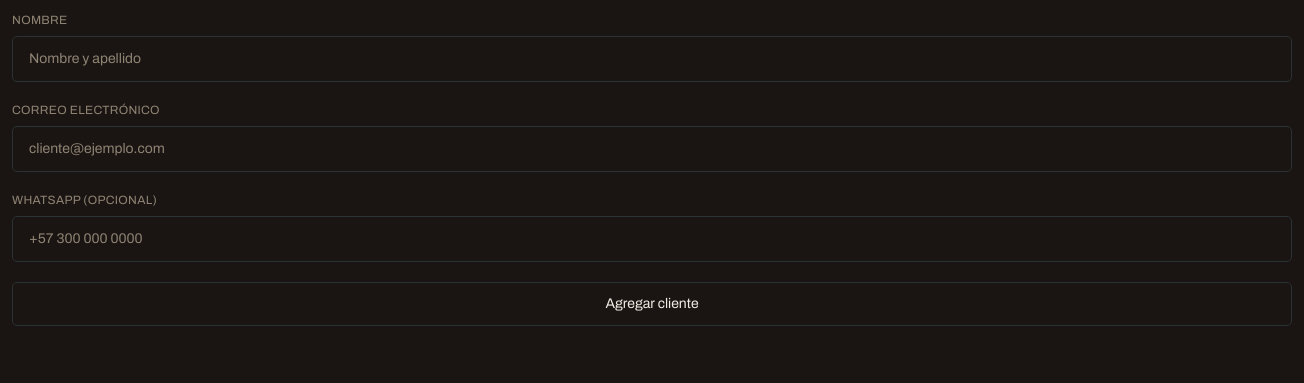
Scenario: ClientForm › submits the typed values through the action
This screenshot has width=1304, height=383.
Type "Ana Pérez" into the field labelled "Nombre" at (652, 59), box [12, 36, 1292, 82]
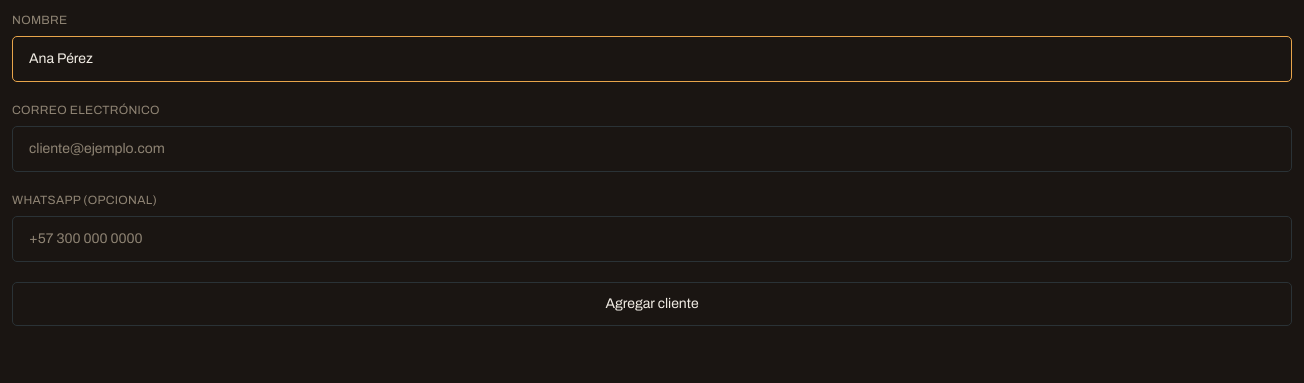
Type "ana@example.com" into the field labelled "Correo electrónico" at (652, 149), box [12, 126, 1292, 172]
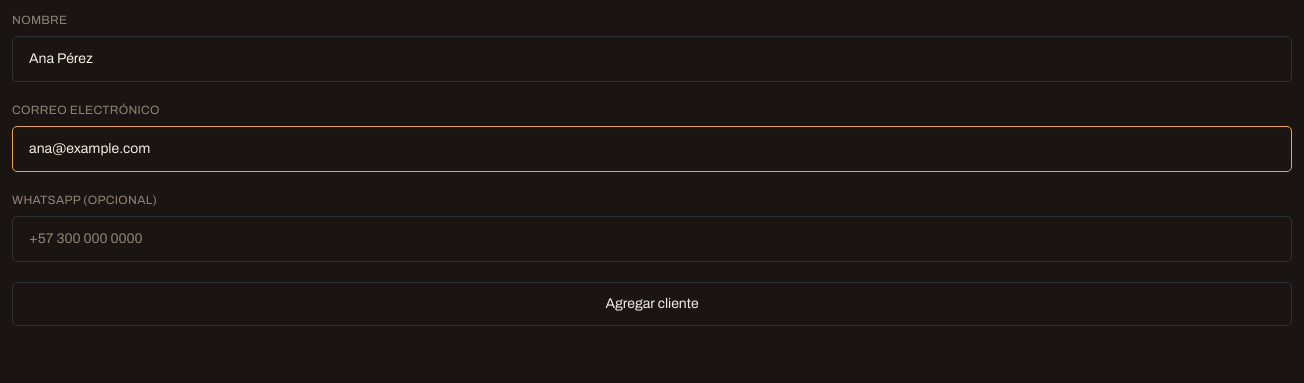
Type "+57 300 0000" into the field labelled "WhatsApp (opcional)" at (652, 239), box [12, 216, 1292, 262]
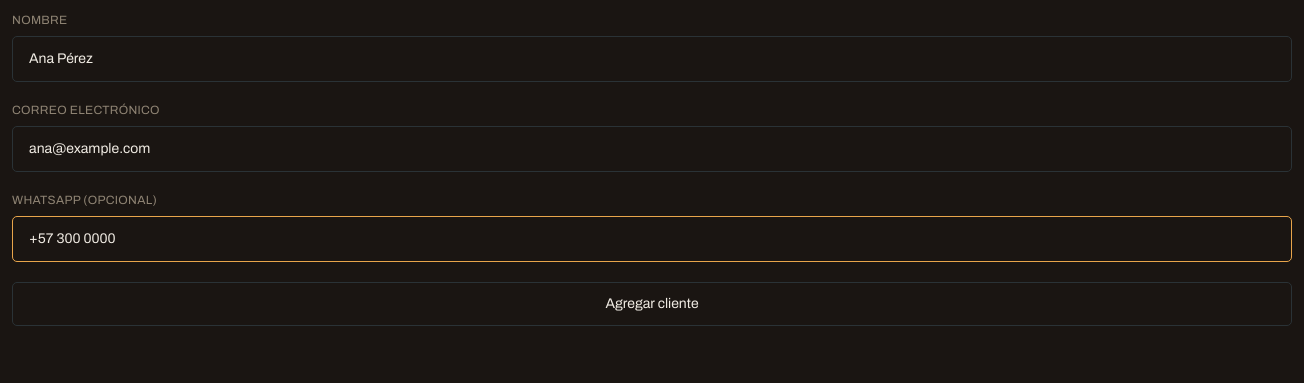
Click the button "Agregar cliente" at (652, 304), box [12, 282, 1292, 326]
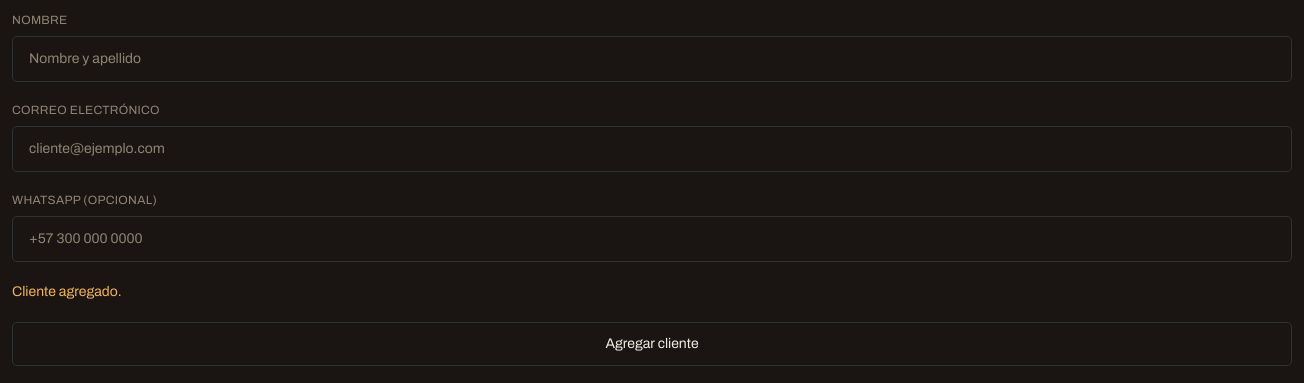
Expected: the text "Cliente agregado." is shown, [12, 284, 122, 299]
